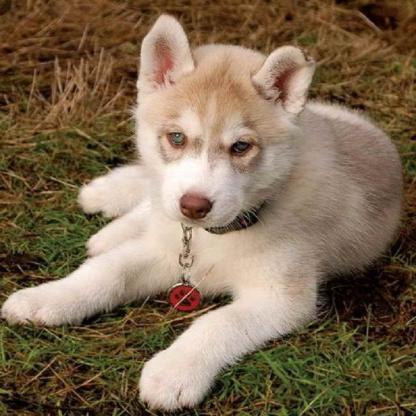husky: (4, 13, 405, 411)
